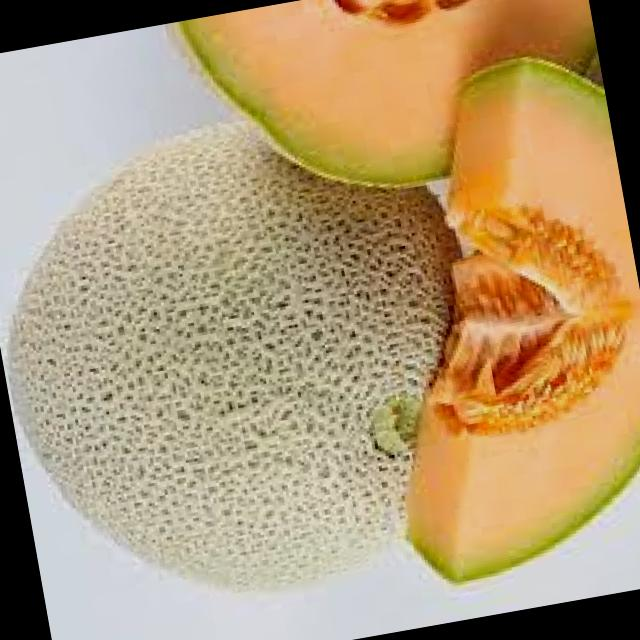cantaloupe: (0, 85, 504, 628), (326, 38, 640, 590)
